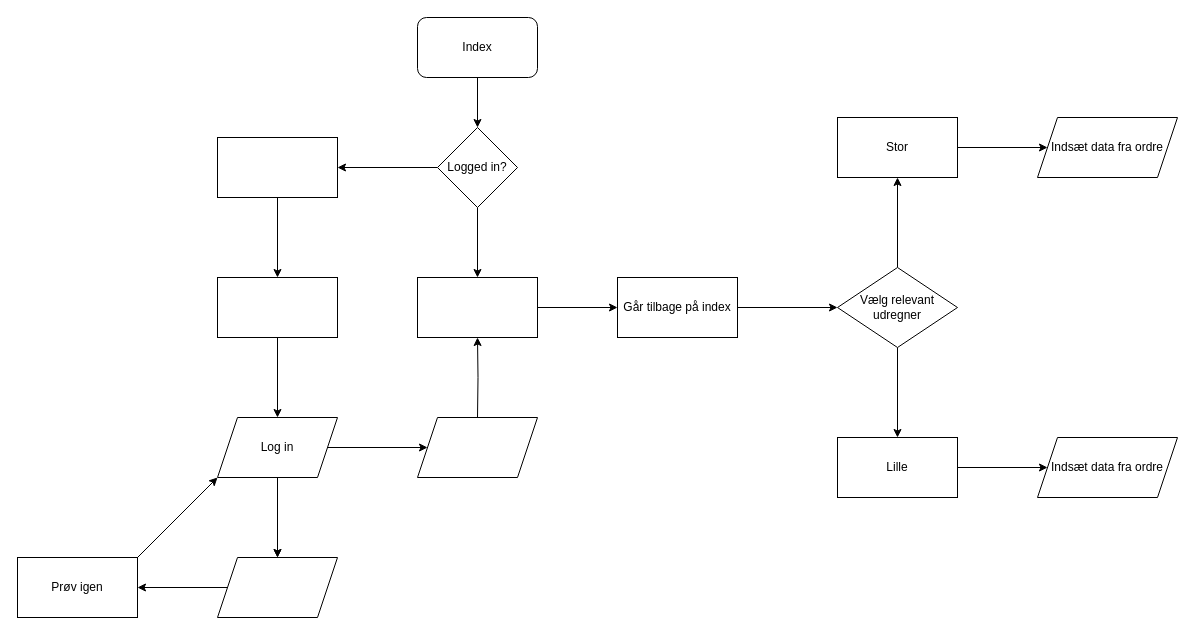
Image size: 1195x635. Some labels were removed from this diagram. Each missing label, with the centre of its shape:
"Fejlagtig log in": (277,587)
"Logget ind": (477,447)
Click på dropdown: (277,307)
Ja: (477,307)
Nej: (277,167)
